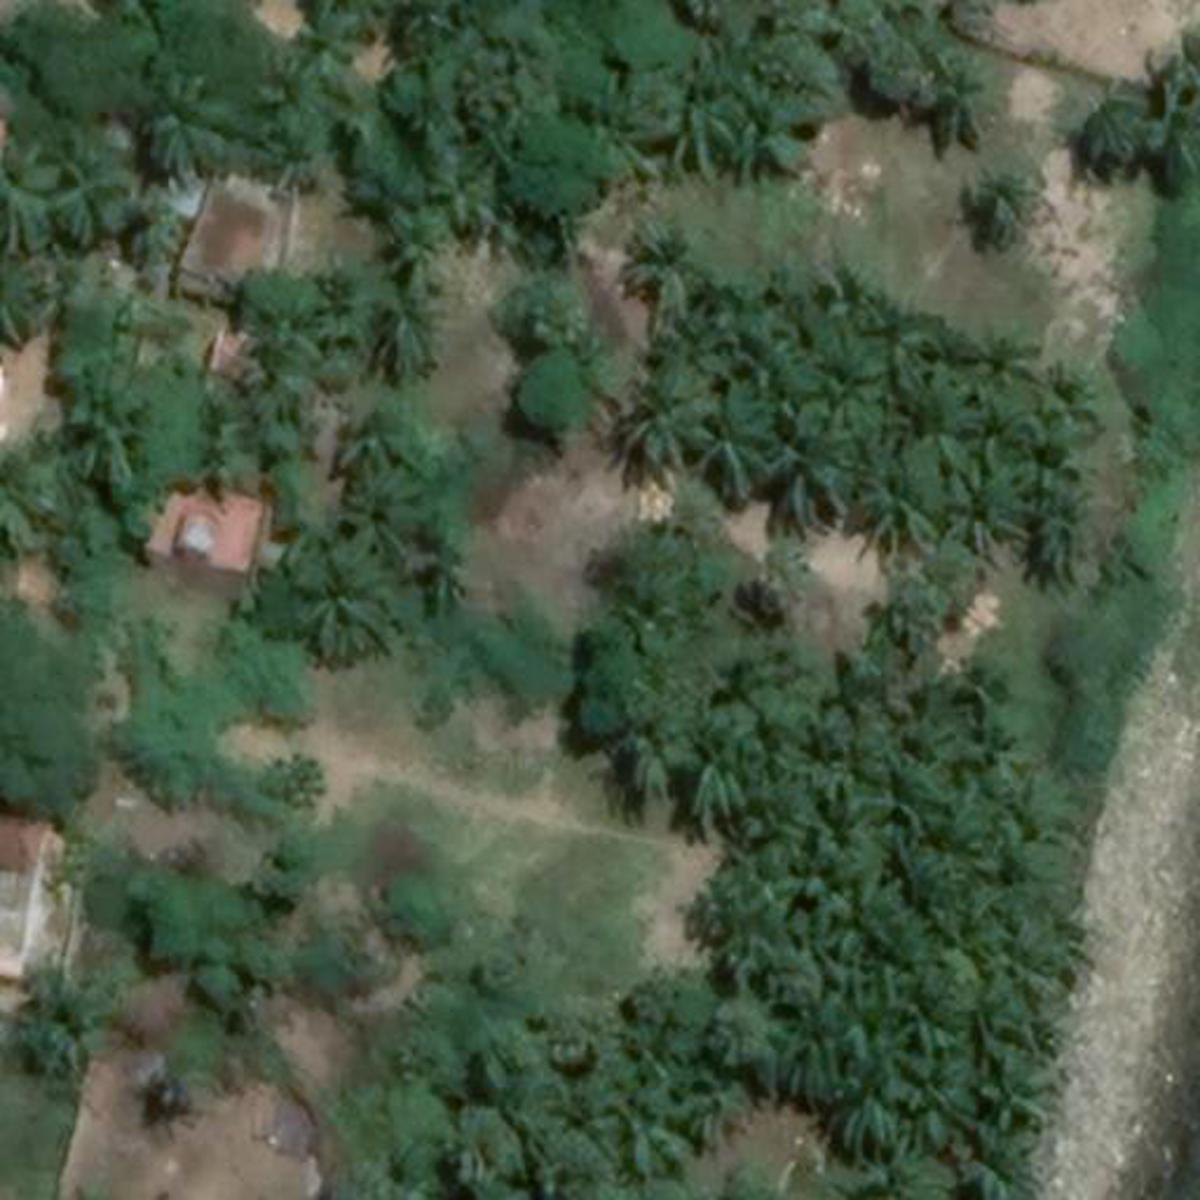coconut: (768, 346, 914, 445), (290, 534, 396, 663), (49, 126, 166, 234), (963, 923, 1099, 1014), (133, 75, 251, 168), (660, 82, 762, 189), (778, 1003, 885, 1099), (342, 445, 442, 543), (904, 51, 989, 159), (649, 304, 745, 400), (895, 370, 982, 473), (754, 435, 855, 522), (960, 1035, 1068, 1116), (846, 478, 938, 571), (727, 77, 820, 168), (257, 53, 346, 147), (616, 229, 712, 316), (792, 710, 876, 810), (618, 391, 719, 471), (782, 836, 878, 921), (1010, 403, 1101, 489), (973, 771, 1087, 838), (7, 131, 75, 241), (822, 1099, 927, 1167), (951, 480, 1035, 564), (689, 731, 775, 813), (958, 330, 1051, 405), (846, 1027, 944, 1099), (623, 724, 712, 799), (365, 199, 462, 267), (433, 147, 515, 225), (871, 749, 953, 827), (946, 1136, 1047, 1197), (454, 56, 538, 121), (967, 173, 1045, 241), (377, 297, 454, 360), (1033, 499, 1099, 567)
